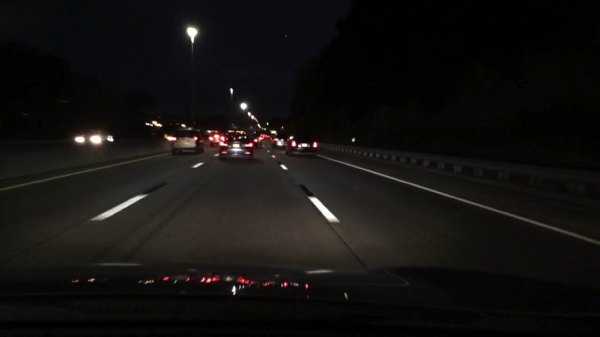car: (171, 126, 206, 153), (219, 134, 254, 161), (70, 125, 110, 146), (284, 134, 318, 157), (271, 132, 291, 151), (208, 132, 226, 147), (248, 133, 262, 149), (265, 133, 271, 139), (261, 133, 264, 139)
